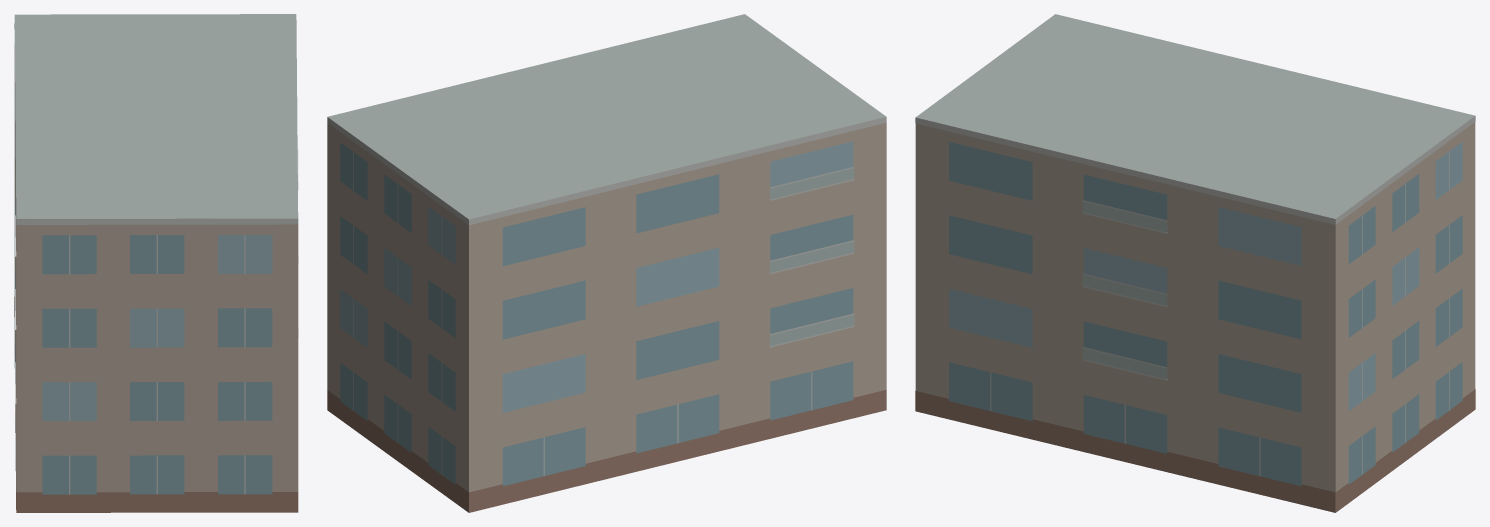
File: residential-25a4dc07-cd3d-4f5c-a5e4-81c1d0cc10e3.glb
3 renders of one model, left to right at view 1: azimuth 30°, elevation 25°; view 2: azimuth 150°, elevation 25°; view 3: azimuth 270°, elevation 25°, orthographic.
Parts seen in each view (by area): view 1: residential-25a4dc07-cd3d-4f5c-a5e4-81c1d0cc10e3.tmp; view 2: residential-25a4dc07-cd3d-4f5c-a5e4-81c1d0cc10e3.tmp; view 3: residential-25a4dc07-cd3d-4f5c-a5e4-81c1d0cc10e3.tmp.
Part boxes in pixels (bbox=[...]): residential-25a4dc07-cd3d-4f5c-a5e4-81c1d0cc10e3.tmp: bbox=[14, 14, 298, 512]; residential-25a4dc07-cd3d-4f5c-a5e4-81c1d0cc10e3.tmp: bbox=[327, 14, 886, 512]; residential-25a4dc07-cd3d-4f5c-a5e4-81c1d0cc10e3.tmp: bbox=[915, 14, 1475, 512].
Bounding box in the file's own units: 18.27 × 12.2 × 21.08.
